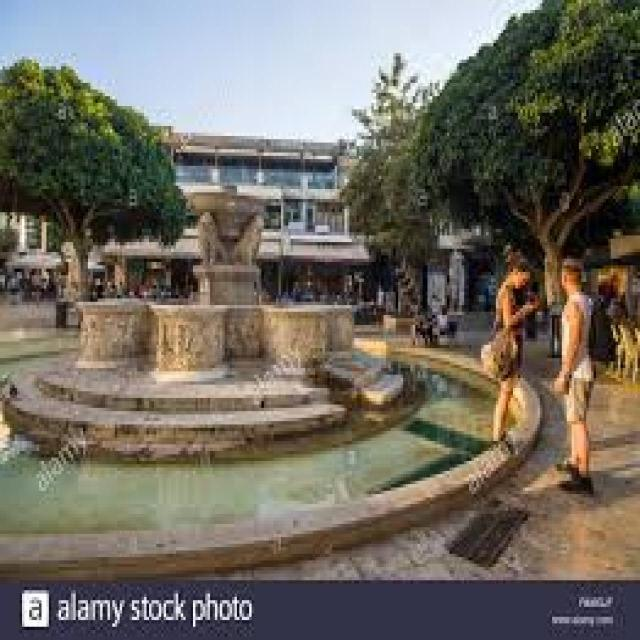Liontaria: (80, 211, 359, 386)
